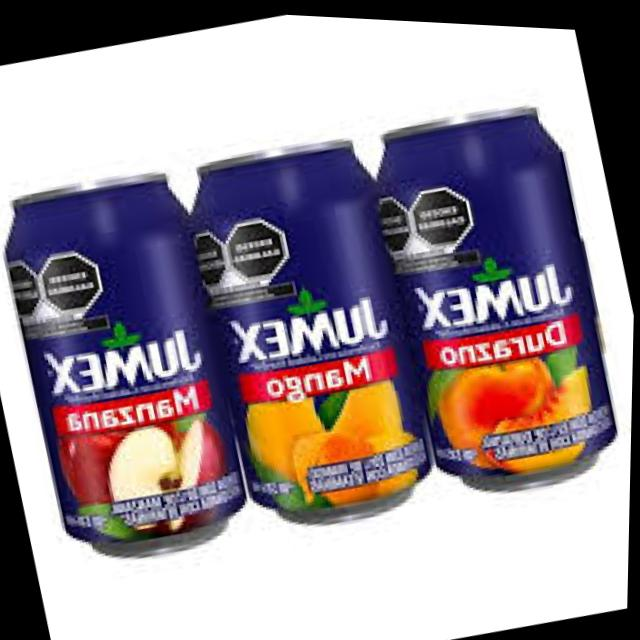Lata: (0, 65, 639, 599)
